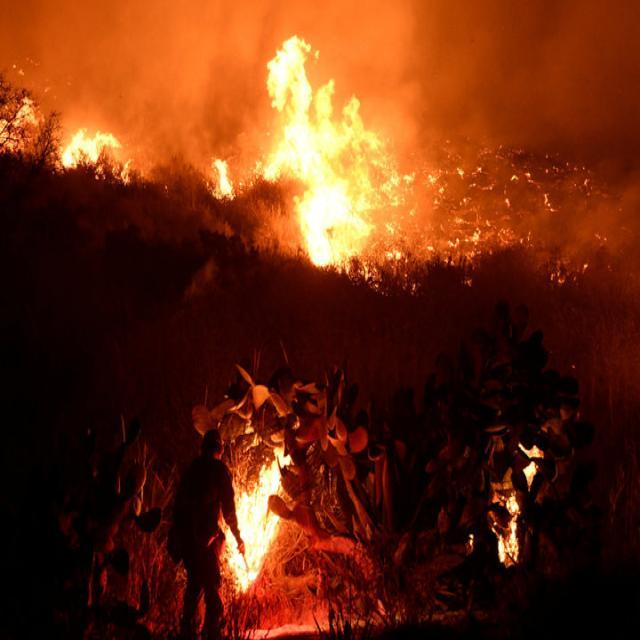Fire: (206, 44, 420, 290), (215, 406, 304, 610), (15, 100, 149, 201)
Smoke: (0, 0, 636, 311)
